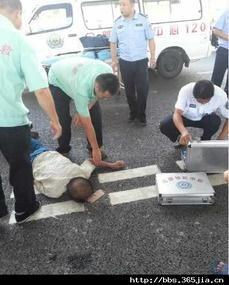Fall-Detected: (9, 123, 125, 212)
